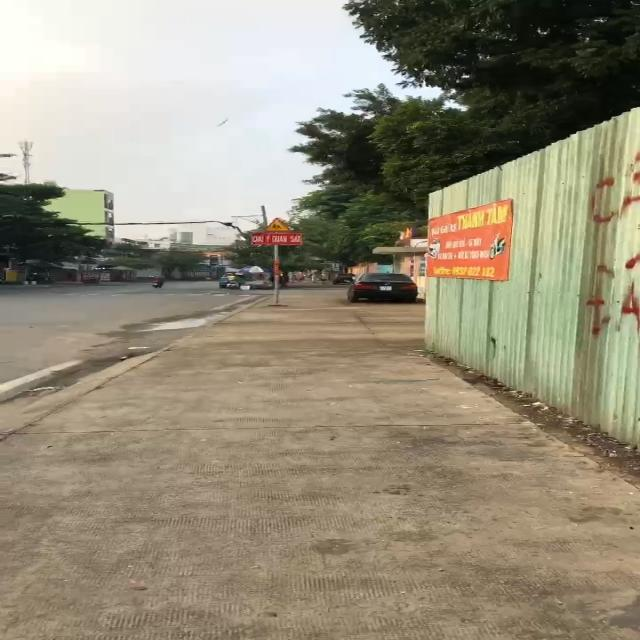Bien bao tre em: (261, 216, 293, 232)
